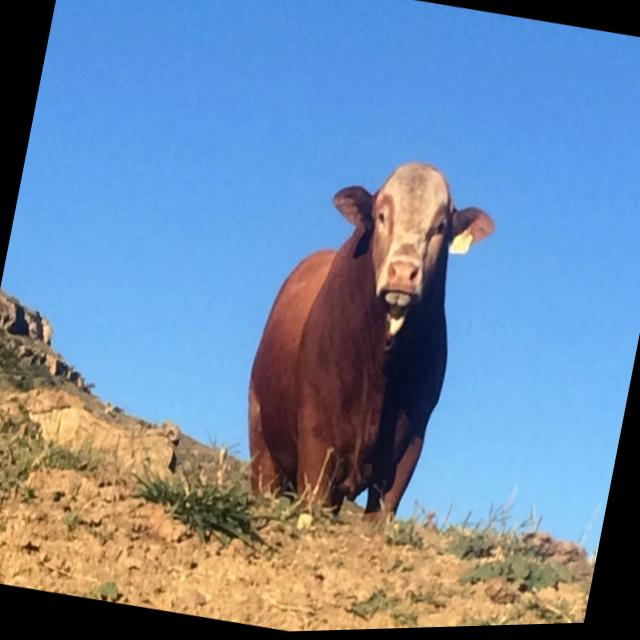cowFace: (306, 138, 506, 351)
